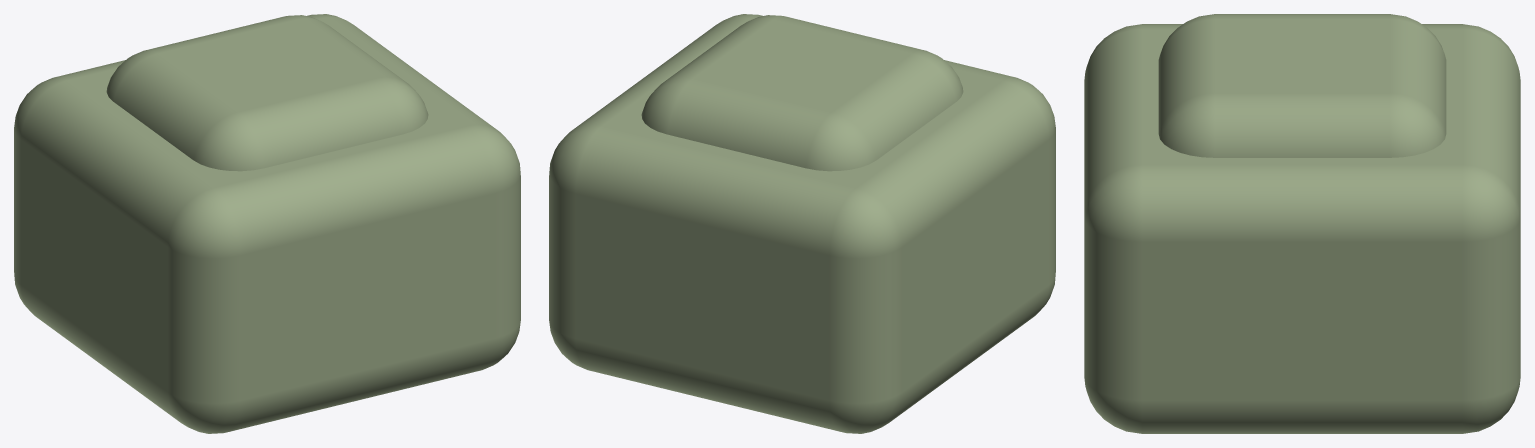
Rendered from bush.gltf.
The picture shows the model from 3 angles, left to right: view 1: azimuth 30°, elevation 25°; view 2: azimuth 150°, elevation 25°; view 3: azimuth 270°, elevation 25°; orthographic projection. The views are drawn at different scales.
Visible parts, largest first — view 1: Cube, Cube 2; view 2: Cube, Cube 2; view 3: Cube, Cube 2.
Boxes of the visible parts, x1,y1,x2,y2 form: Cube: [14, 14, 520, 433]; Cube 2: [106, 15, 428, 171]; Cube: [549, 14, 1055, 433]; Cube 2: [641, 15, 963, 171]; Cube: [1084, 24, 1520, 433]; Cube 2: [1158, 14, 1446, 157].
Size of the model in its own units: 1.2 by 0.9238 by 1.2.
